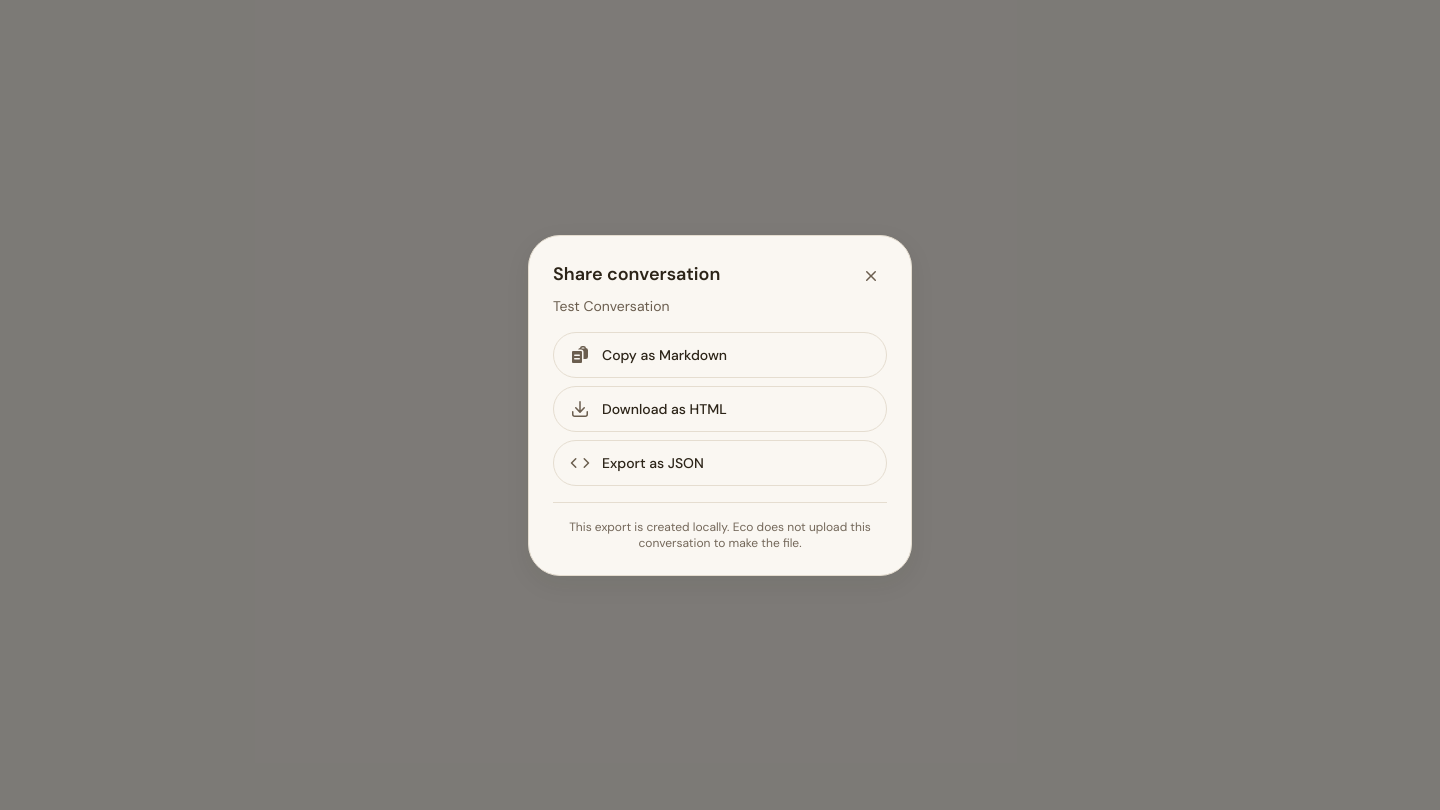
ShareDialog › does not blame the browser when the conversation record is gone
This screenshot has width=1440, height=810.
Click the button "Copy as Markdown" at (720, 354), box [553,332,887,378]
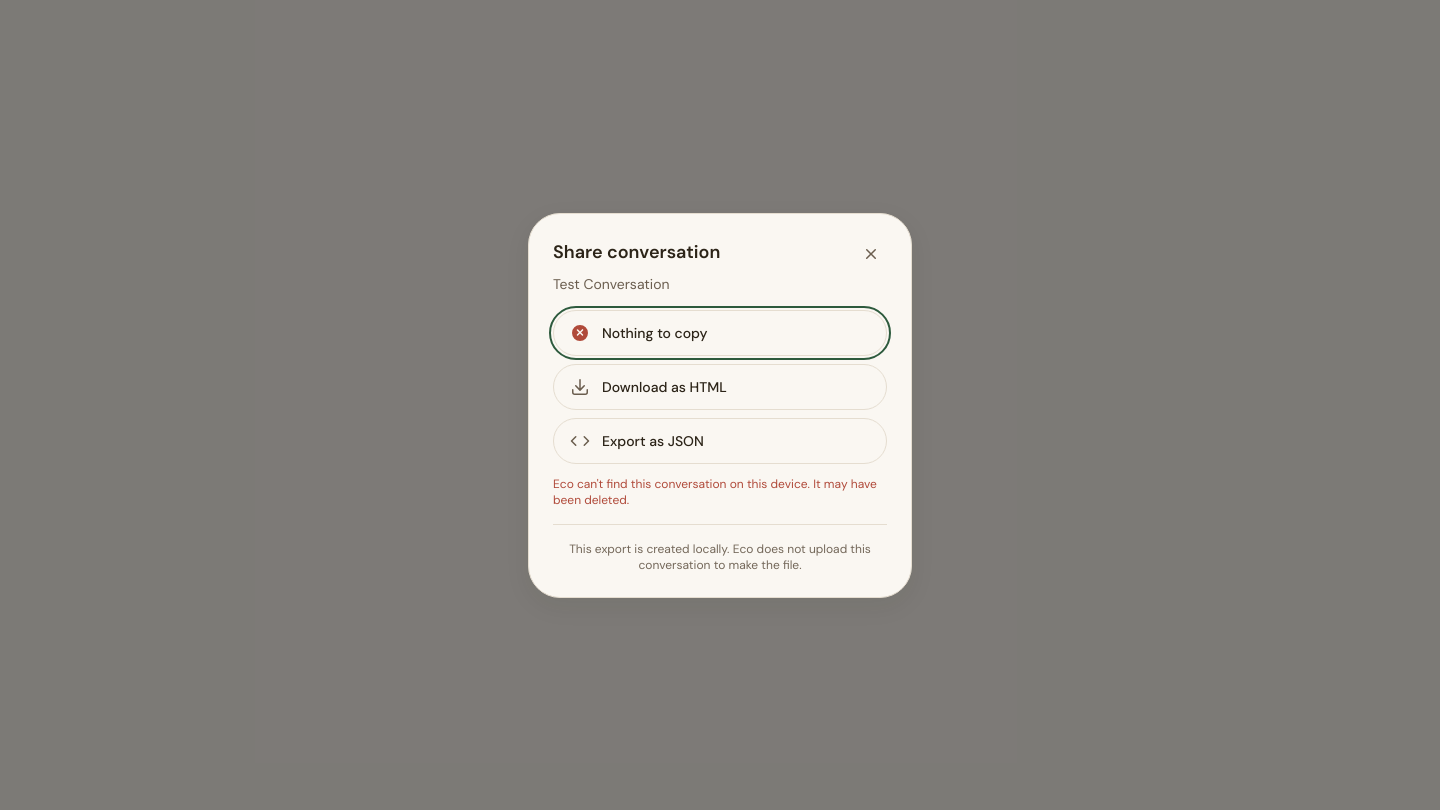
Expected: the text "Eco can't find this conversation on this device. It may have been deleted." is shown, [553,476,887,508]
Expected: the button "Nothing to copy" is shown, [553,310,887,356]
